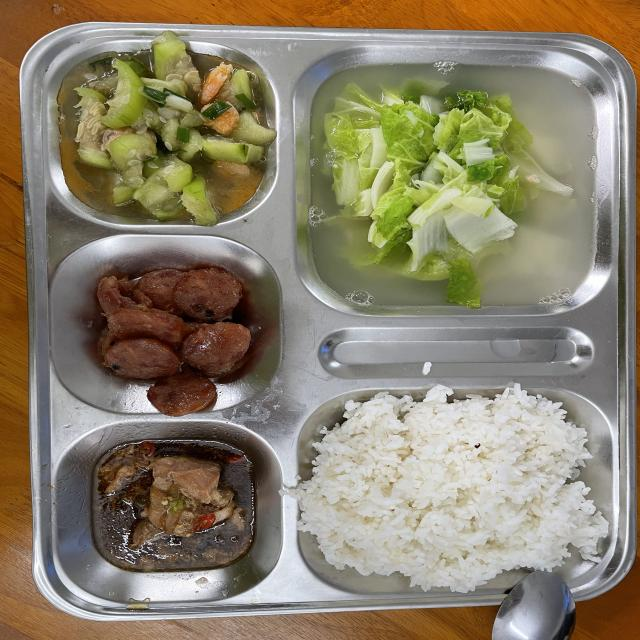ca_kho: (112, 460, 243, 545)
com_trang: (344, 431, 569, 549)
